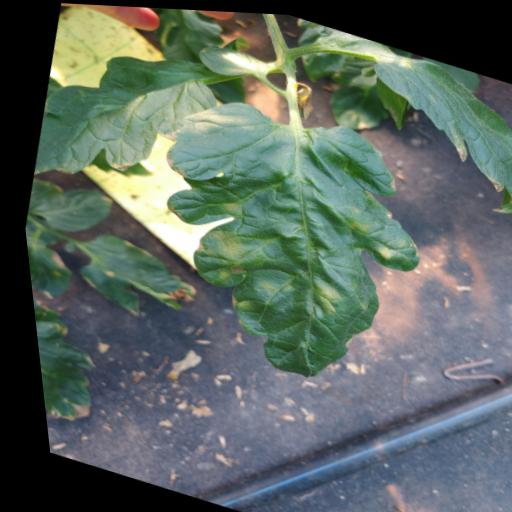Leaf Mold: (108, 71, 453, 405)
